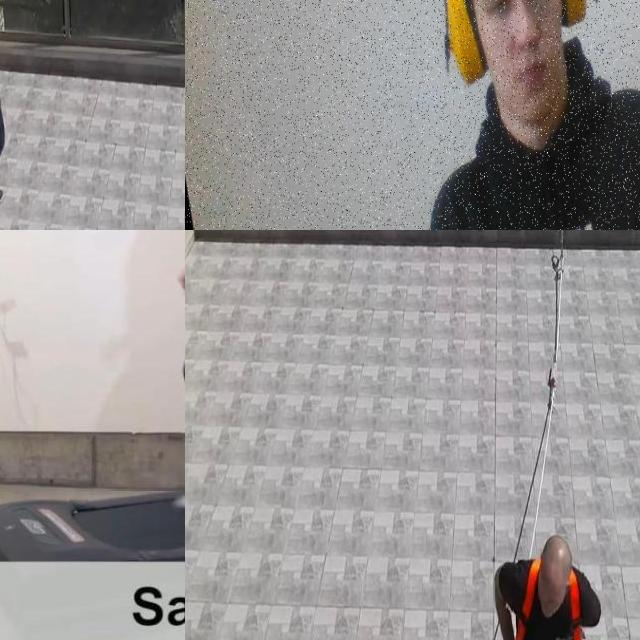Ear-protection: (415, 0, 608, 175)
Harness: (516, 250, 564, 560)
